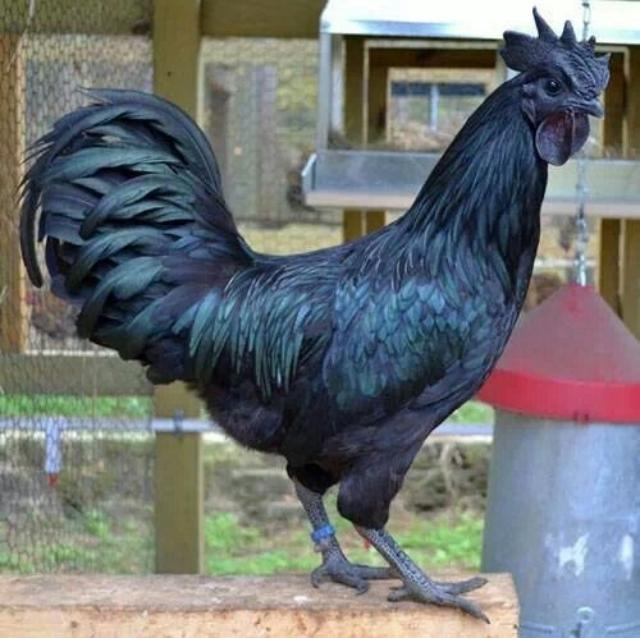Chicken: (17, 5, 612, 625)
